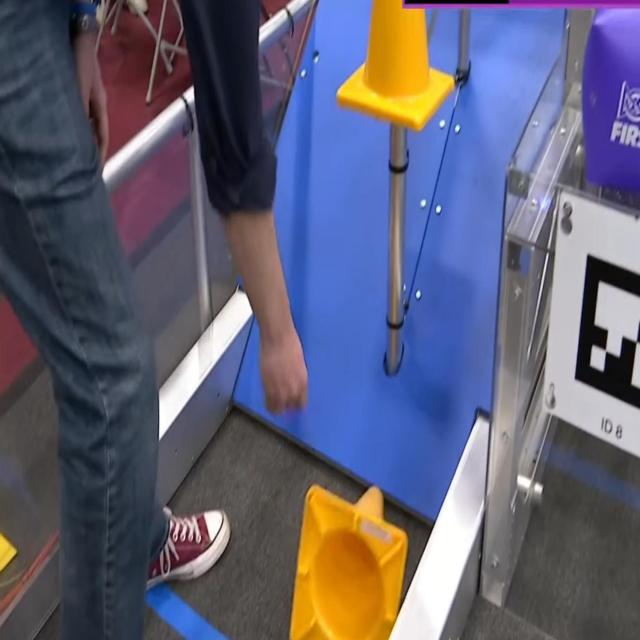frc_cone: (284, 474, 406, 640), (339, 0, 454, 134)
frc_cube: (583, 0, 640, 203)
